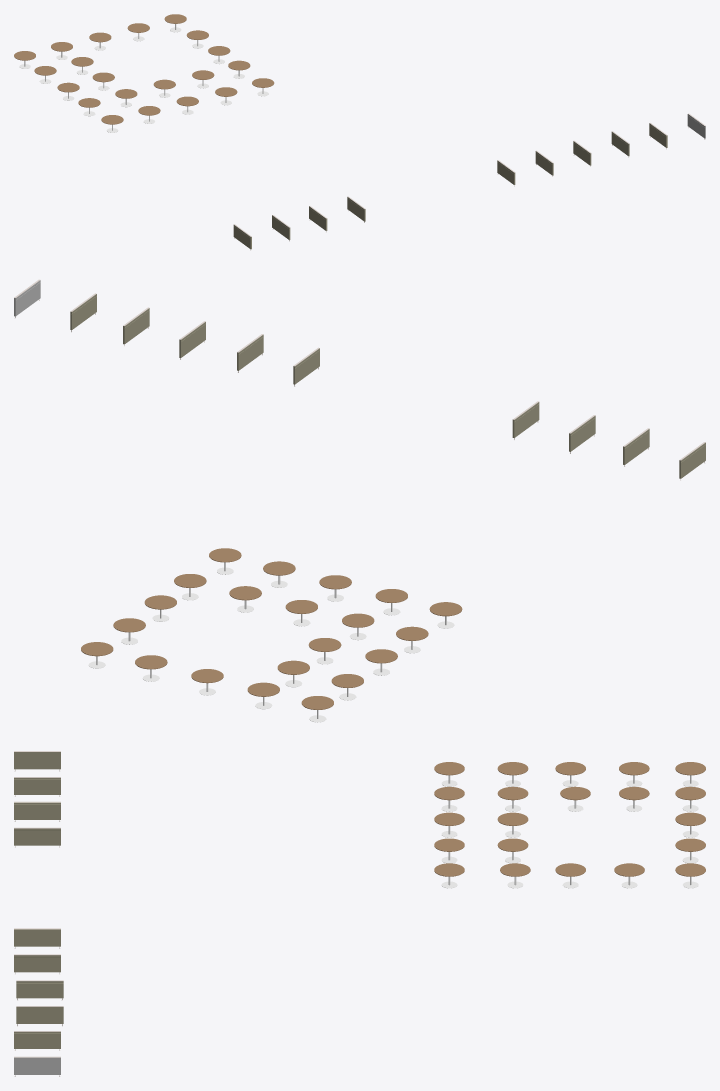
File: Zoll_Base_Version3_Level_1_IfcFurnishingElement.dae
The picture shows the model from 3 angles, top to bottom: view 1: azimuth 30°, elevation 25°; view 2: azimuth 150°, elevation 25°; view 3: azimuth 270°, elevation 25°; orthographic projection. The views are drawn at different scales.
Parts seen in each view (by area): view 1: no part large enough to name; view 2: no part large enough to name; view 3: 2eQAkgtmr7OOnUGGEDt$M2, 2eQAkgtmr7OOnUGGEDt$L$, 2eQAkgtmr7OOnUGGEDt$M4, 2eQAkgtmr7OOnUGGEDt$M6, 2eQAkgtmr7OOnUGGEDt$M3, 2eQAkgtmr7OOnUGGEDt$M5, 2eQAkgtmr7OOnUGGEDt$M8, 2eQAkgtmr7OOnUGGEDt$M1, 2eQAkgtmr7OOnUGGEDt$M0, 2eQAkgtmr7OOnUGGEDt$M7.
Part boxes in pixels (box(x1,y1,x2,y2)): 2eQAkgtmr7OOnUGGEDt$M2: box(16, 980, 63, 1000); 2eQAkgtmr7OOnUGGEDt$L$: box(14, 1056, 60, 1076); 2eQAkgtmr7OOnUGGEDt$M4: box(14, 928, 60, 948); 2eQAkgtmr7OOnUGGEDt$M6: box(14, 801, 60, 821); 2eQAkgtmr7OOnUGGEDt$M3: box(14, 954, 60, 974); 2eQAkgtmr7OOnUGGEDt$M5: box(14, 827, 60, 847); 2eQAkgtmr7OOnUGGEDt$M8: box(14, 751, 60, 771); 2eQAkgtmr7OOnUGGEDt$M1: box(16, 1006, 63, 1026); 2eQAkgtmr7OOnUGGEDt$M0: box(14, 1031, 60, 1050); 2eQAkgtmr7OOnUGGEDt$M7: box(14, 777, 60, 796).
Bounding box in the file's own units: 30.82 × 29.42 × 0.9144.
